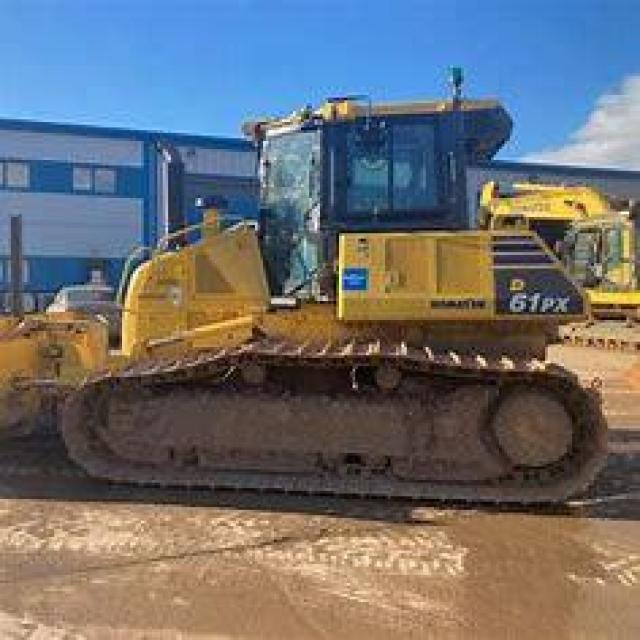Bulldozer: (5, 84, 638, 526)
